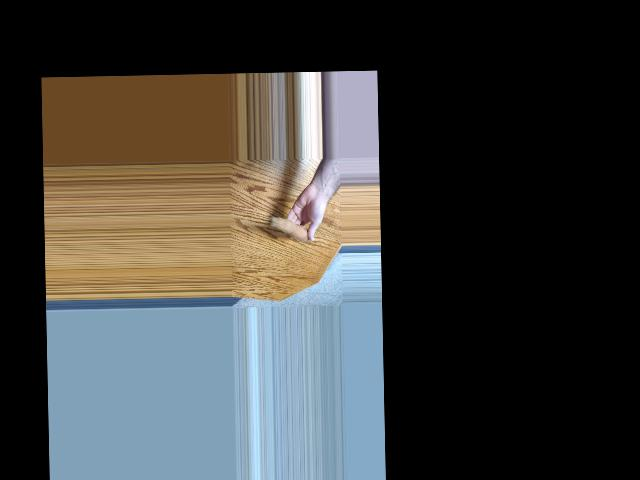sweet_potato: (270, 213, 312, 242)
